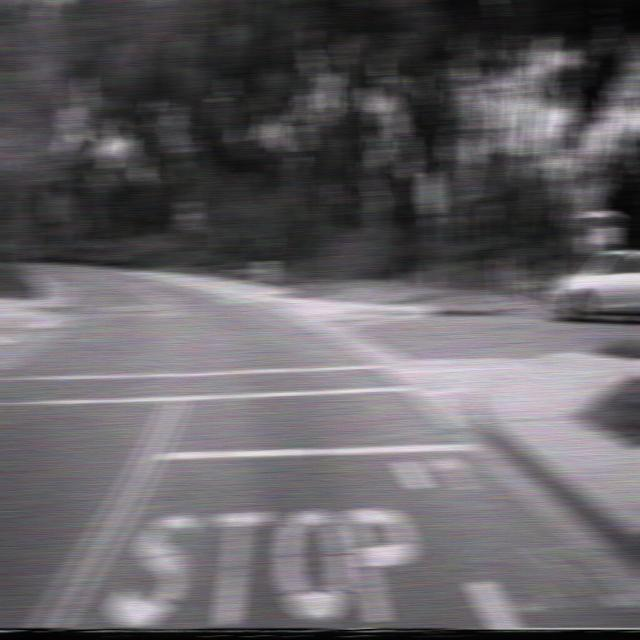stop_sign: (420, 170, 442, 214)
